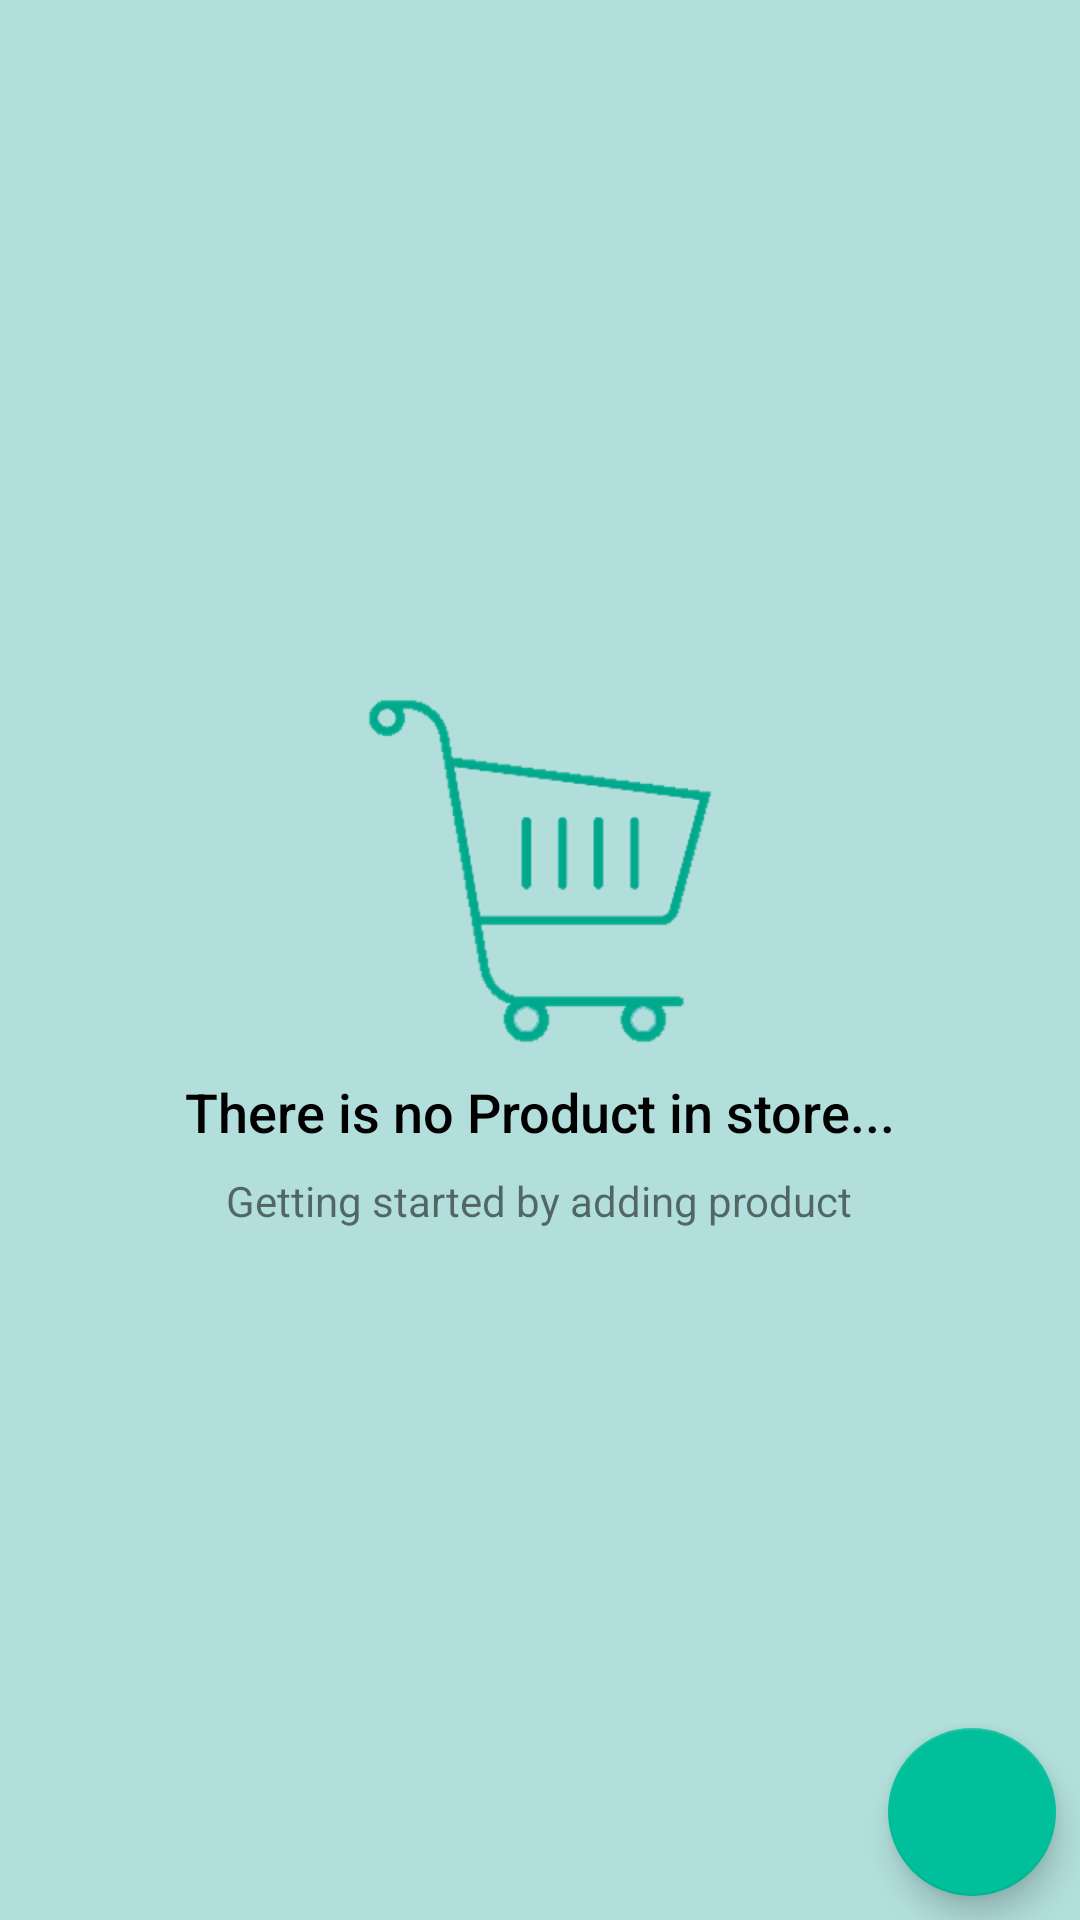

Where icons sit on this 1080x1920 app screen, as (x1, y1, x2, y2):
empty state: (369, 700, 711, 1042)
